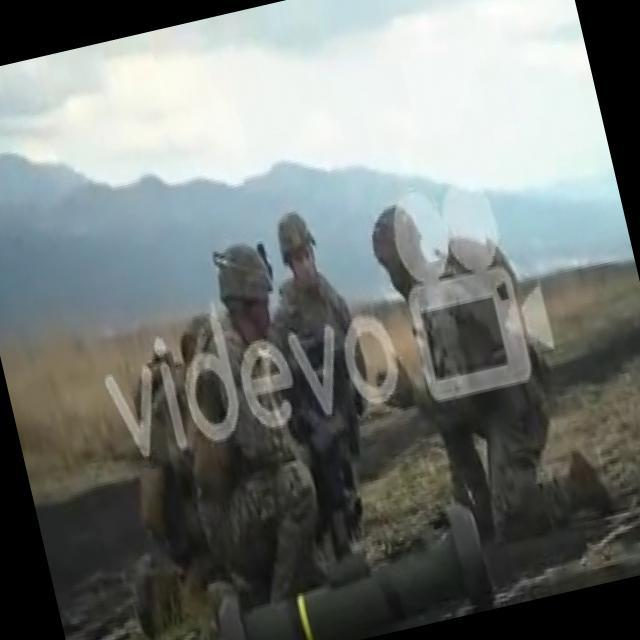rocket: (202, 499, 495, 640)
